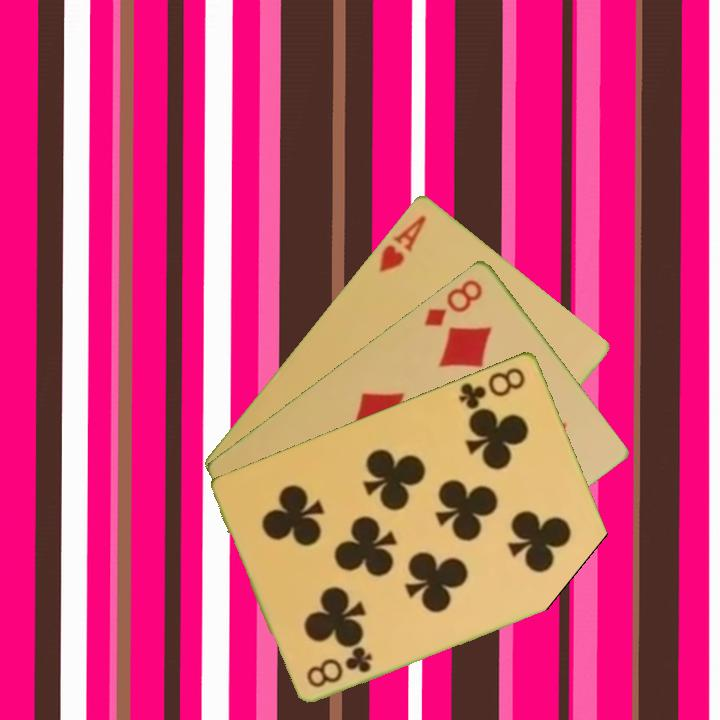8c: (455, 363, 529, 412), (303, 643, 376, 690)
8d: (420, 275, 486, 329)
Ah: (375, 211, 429, 275)
